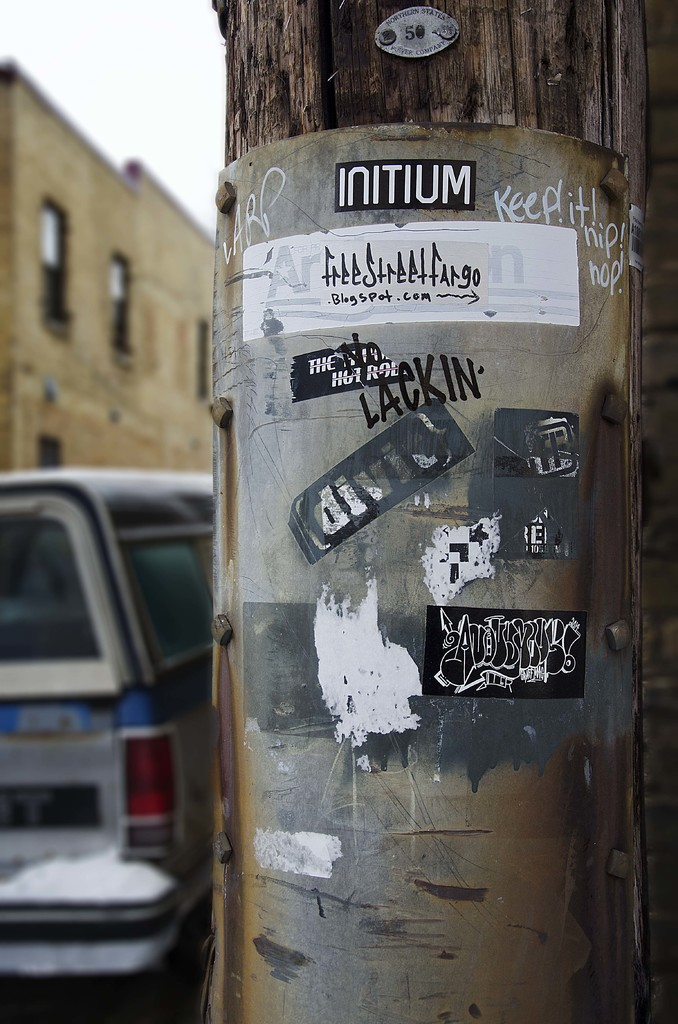Car: (0, 467, 215, 1023)
